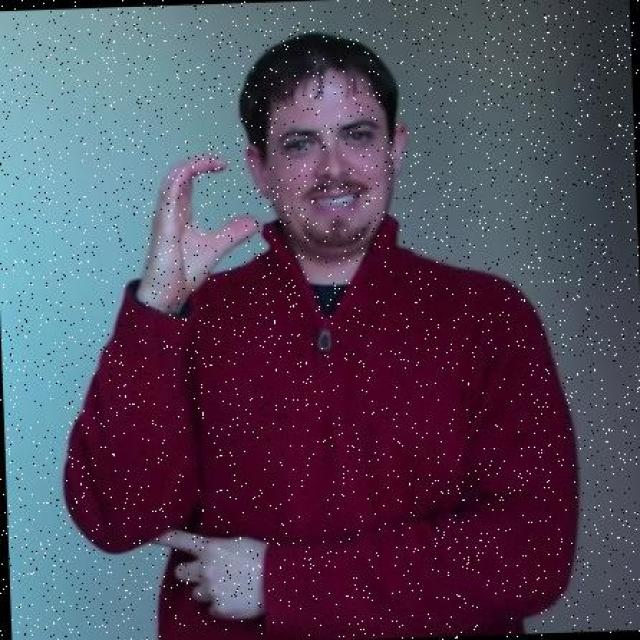C: (131, 149, 268, 318)
